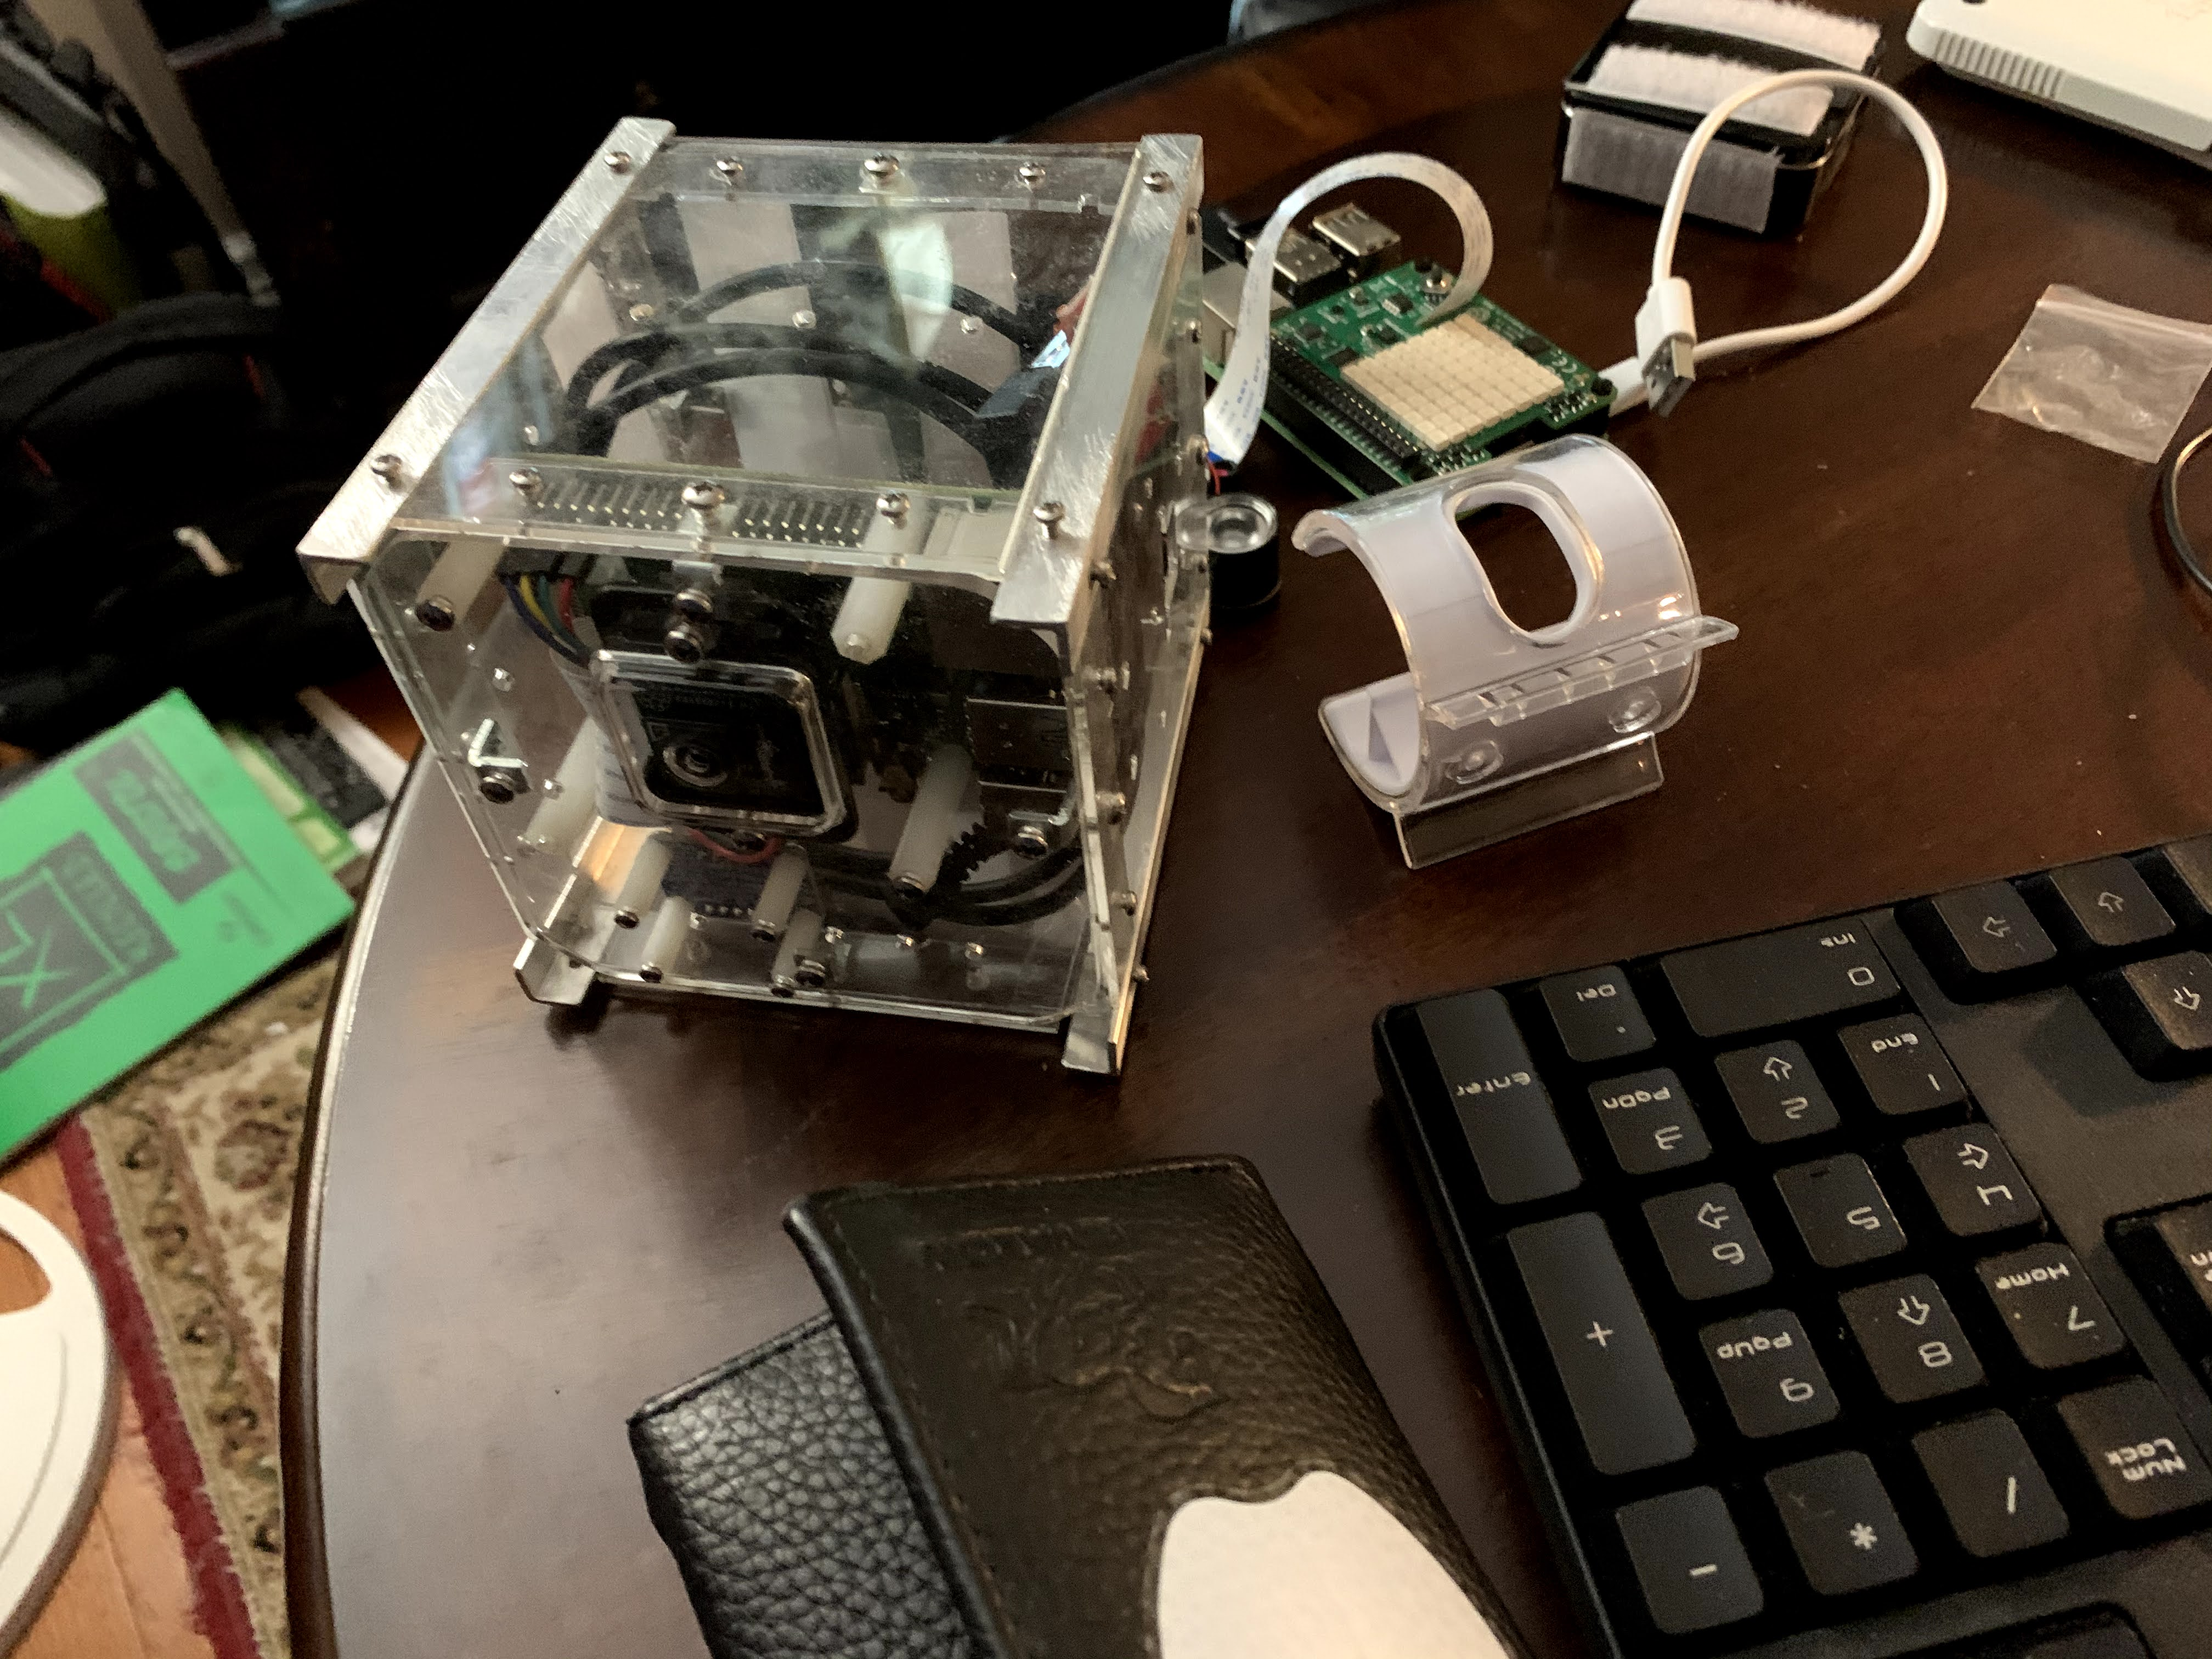Space-debris-cubesat: (320, 92, 1238, 1091)
